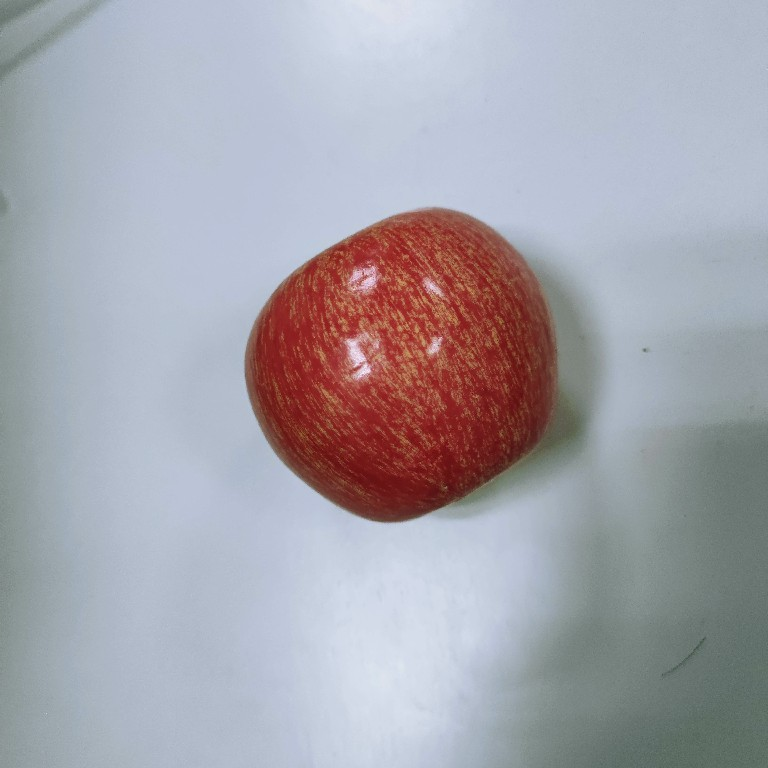fruit_apple: (239, 201, 563, 528)
